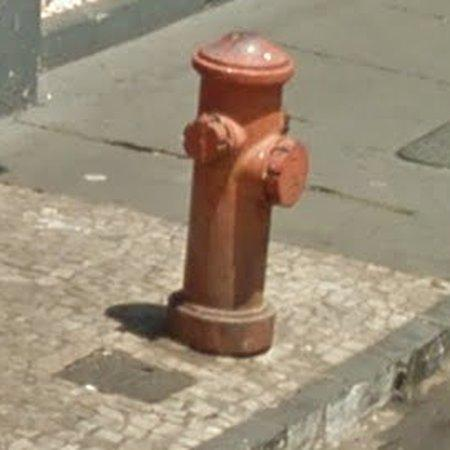a fire hydrant: (168, 31, 309, 356)
